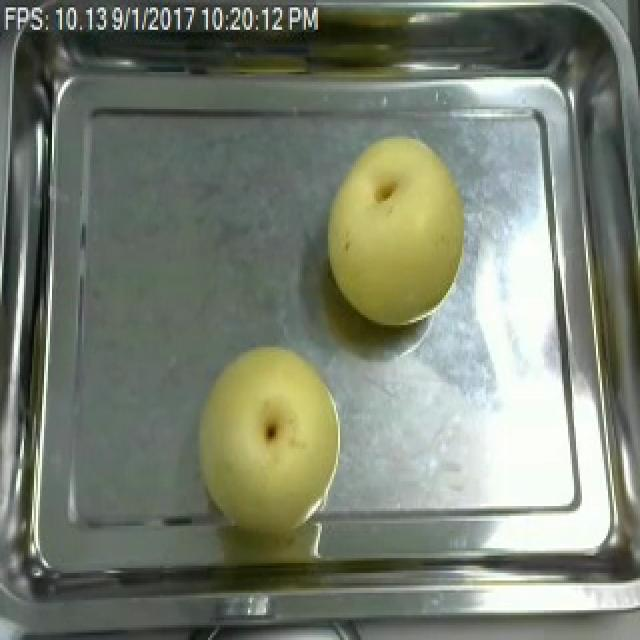Fruit: (316, 126, 474, 332), (188, 335, 352, 533)
